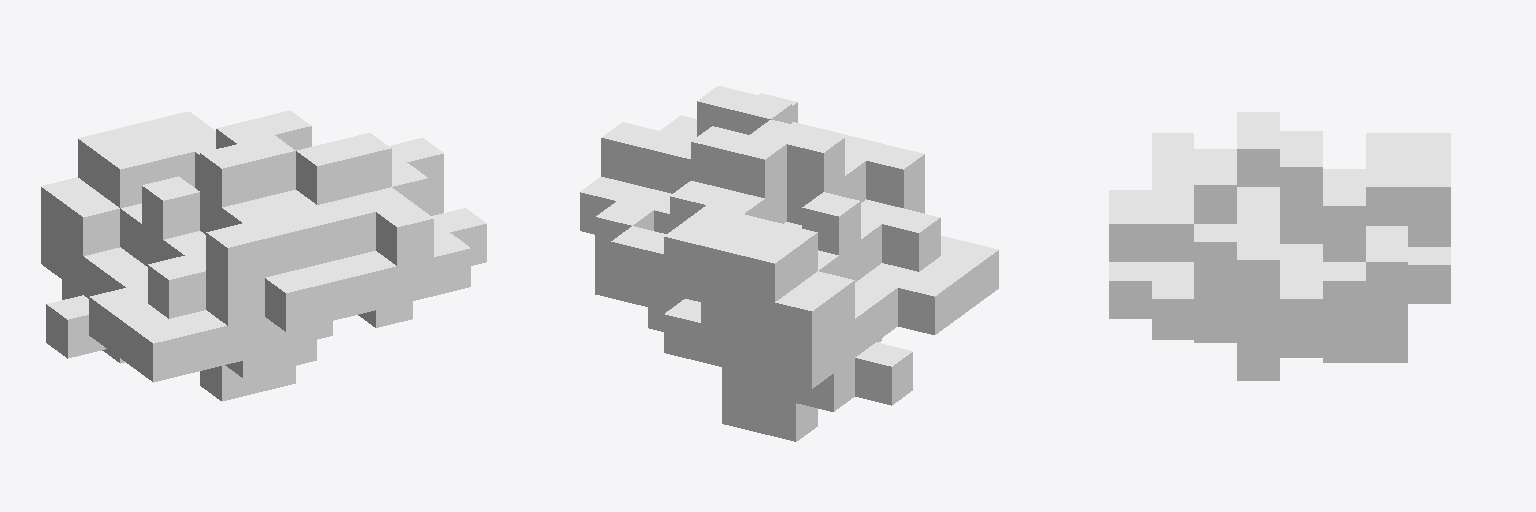
File: Cloud4.obj
The picture shows the model from 3 angles: view 1: azimuth 30°, elevation 25°; view 2: azimuth 150°, elevation 25°; view 3: azimuth 270°, elevation 25°; orthographic projection.
Parts seen in each view (by area): view 1: object 1; view 2: object 1; view 3: object 1.
Part boxes in pixels (x1,y1,x2,y2): object 1: (41, 110, 486, 401); object 1: (580, 86, 998, 441); object 1: (1109, 112, 1450, 380).
Size of the model in its own units: 1.8 by 1.2 by 1.6.